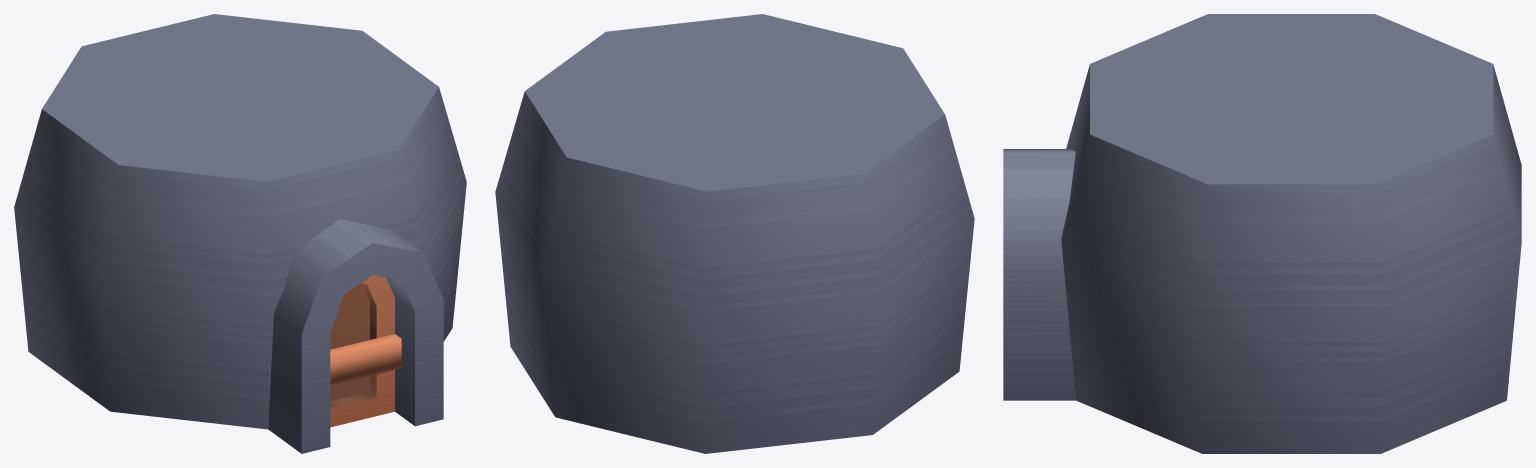
File: tower-base-door.glb
3 views of the same model, side by side, from view 1: azimuth 30°, elevation 25°; view 2: azimuth 150°, elevation 25°; view 3: azimuth 270°, elevation 25° (orthographic). The views are drawn at different scales.
Visible parts, largest first — view 1: tower-base-door; view 2: tower-base-door; view 3: tower-base-door.
Part boxes in pixels (left/top/right/bottom): tower-base-door: left=14, top=14, right=466, bottom=453; tower-base-door: left=495, top=14, right=974, bottom=453; tower-base-door: left=1003, top=14, right=1521, bottom=453.
Bounding box in the file's own units: 3.16 × 2 × 3.56.
Materials: 1 (1 with a texture image).
